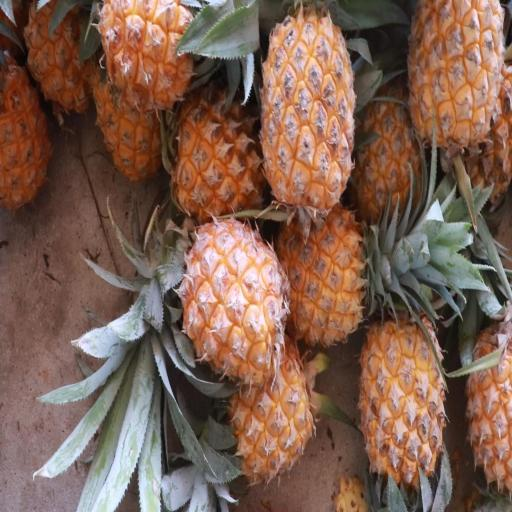Pineapple - v8 v1: (256, 10, 357, 218), (175, 218, 289, 396), (357, 284, 449, 493), (222, 316, 320, 488), (405, 0, 507, 164), (265, 190, 366, 353), (173, 87, 269, 233), (464, 296, 512, 497), (0, 45, 52, 223), (23, 0, 101, 118)
